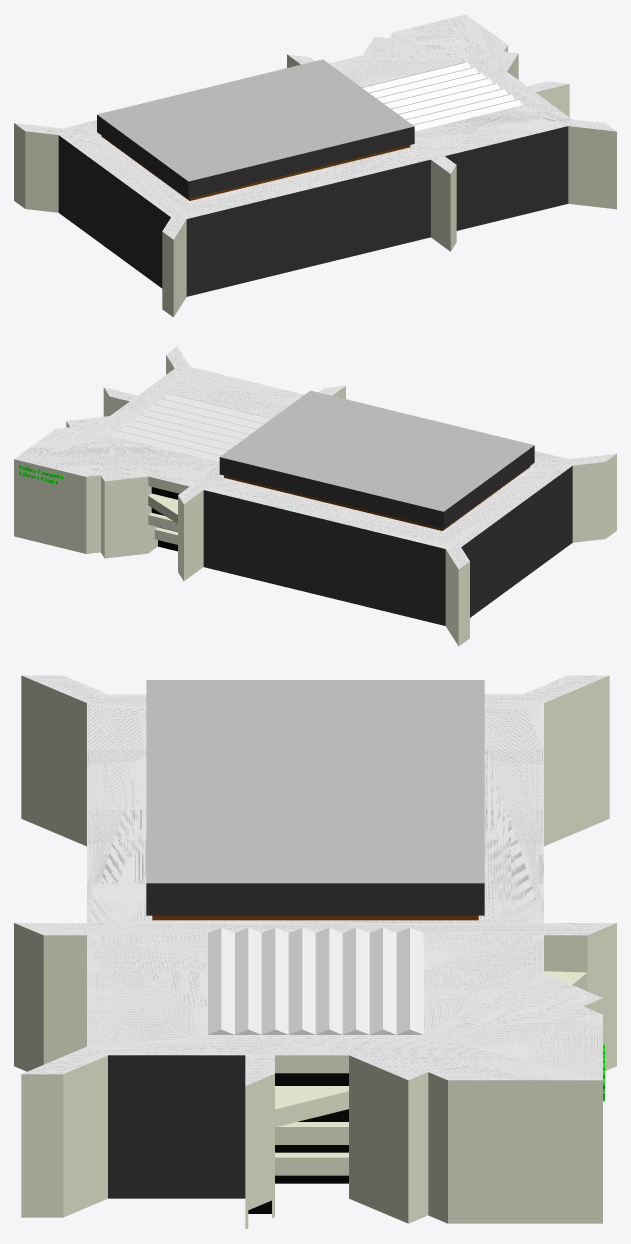
The model's file is kilgour.dae.
The picture shows the model from 3 angles, top to bottom: view 1: azimuth 30°, elevation 25°; view 2: azimuth 150°, elevation 25°; view 3: azimuth 270°, elevation 25°; orthographic projection. The views are drawn at different scales.
Visible parts, largest first — view 1: SketchUp (×13); view 2: SketchUp (×10); view 3: SketchUp (×12).
Part boxes in pixels (x1=…): SketchUp (×13): x1=14, y1=14, x2=616, y2=317; SketchUp (×10): x1=14, y1=346, x2=616, y2=646; SketchUp (×12): x1=14, y1=675, x2=616, y2=1229.
Bounding box in the file's own units: 5900 × 3660 × 1224.
